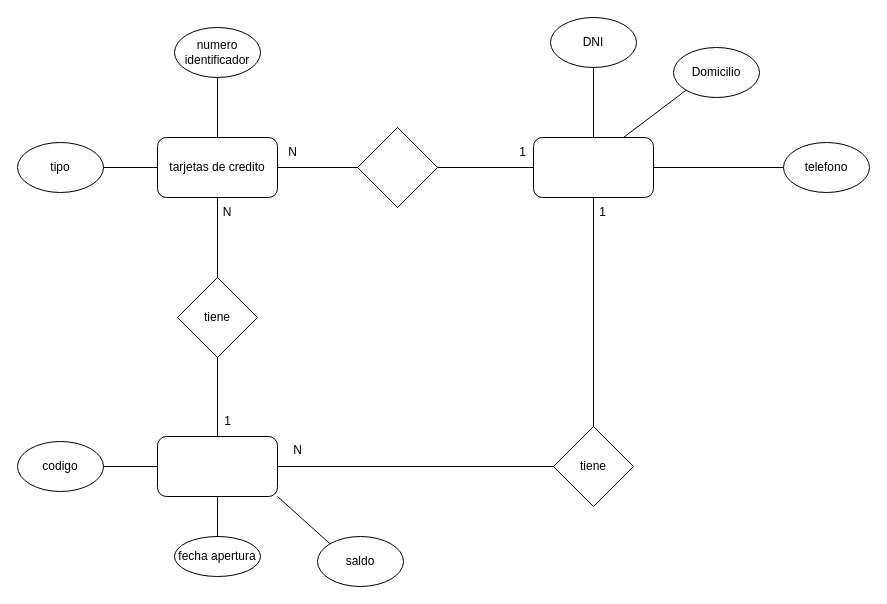
Image size: 887x604. Some labels were removed from this diagram. The box of each missing label's shape, as (x1, y1, x2, y2) in pixels:
cuentas corrientes: (156, 436, 278, 496)
titulares de las tarjetas: (532, 136, 654, 198)
usa: (356, 126, 438, 208)
